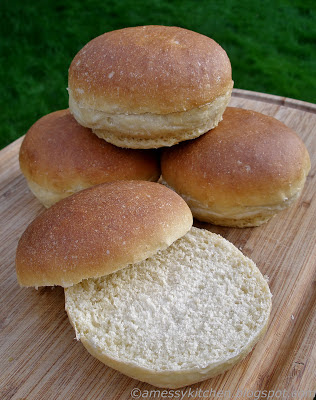hamburger_buns: (14, 184, 278, 377), (70, 28, 250, 149), (170, 103, 310, 233), (24, 109, 173, 206)
